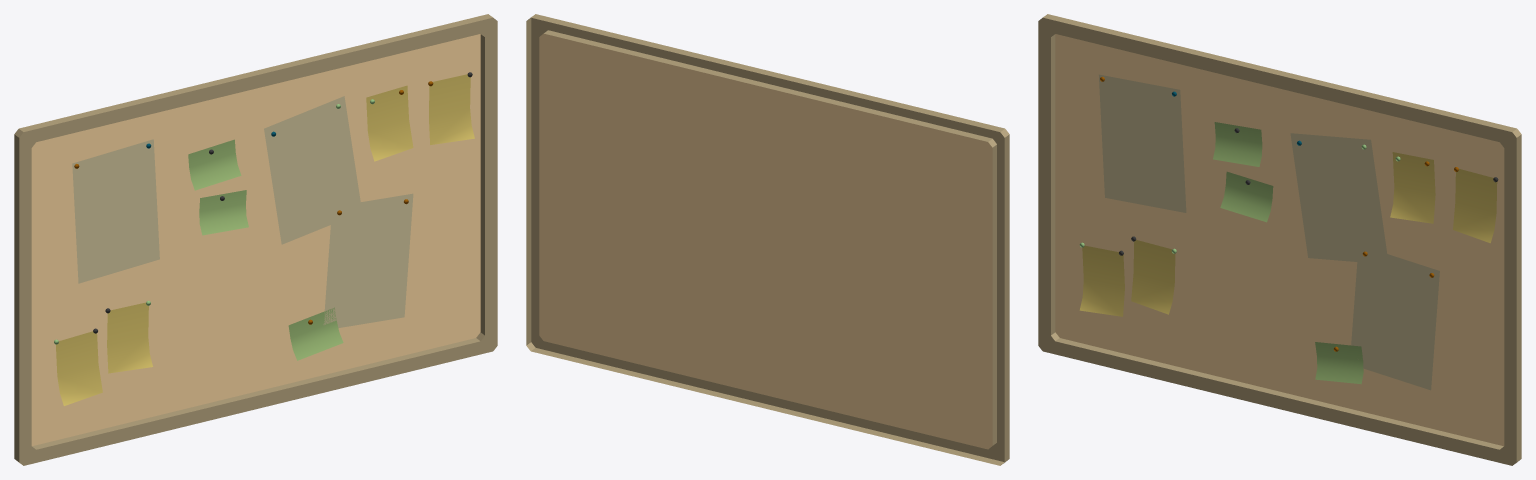
Rendered from SM_Cork_Board_01.fbx.
The picture shows the model from 3 angles, left to right: view 1: azimuth 30°, elevation 25°; view 2: azimuth 150°, elevation 25°; view 3: azimuth 330°, elevation 25°; orthographic projection.
Visible parts, largest first — view 1: SM_Cork_Board_01; view 2: SM_Cork_Board_01; view 3: SM_Cork_Board_01.
Part boxes in pixels (left/top/right/bottom): SM_Cork_Board_01: left=14, top=14, right=497, bottom=465; SM_Cork_Board_01: left=526, top=14, right=1009, bottom=465; SM_Cork_Board_01: left=1038, top=14, right=1521, bottom=465.
Size of the model in its own units: 123 by 82.11 by 2.96.
